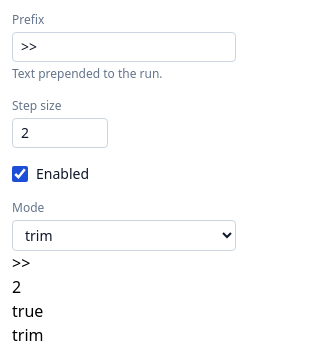
Test: SchemaSettingsPanel › writes an enumerated selection back to the section, live
Select "keep" in the dropdown labelled "Mode" at {"x": 124, "y": 236}, box [12,220,236,251]
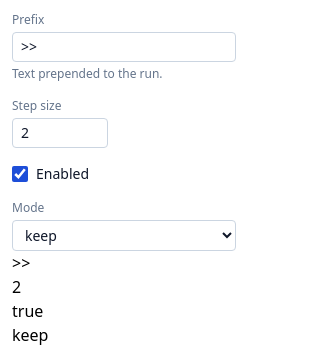
Expected: the text with test id "consume-mode" reads "keep", [12,324,48,346]
